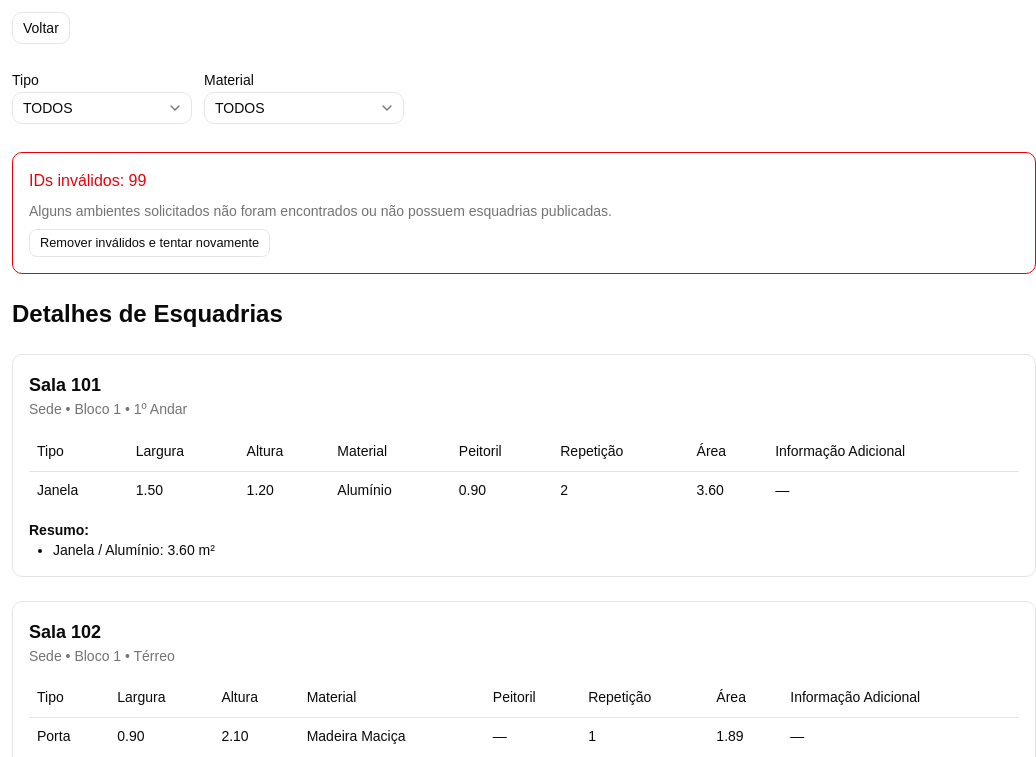
Test: EsquadriasPage › remove IDs inválidos ao clicar no botão e re-busca apenas válidos
Expected: the text "IDs inválidos: 99" is shown, x1=29 y1=172 x2=146 y2=189
Click the button "Remover inválidos e tentar novamente": click(150, 243) x1=29 y1=229 x2=270 y2=257
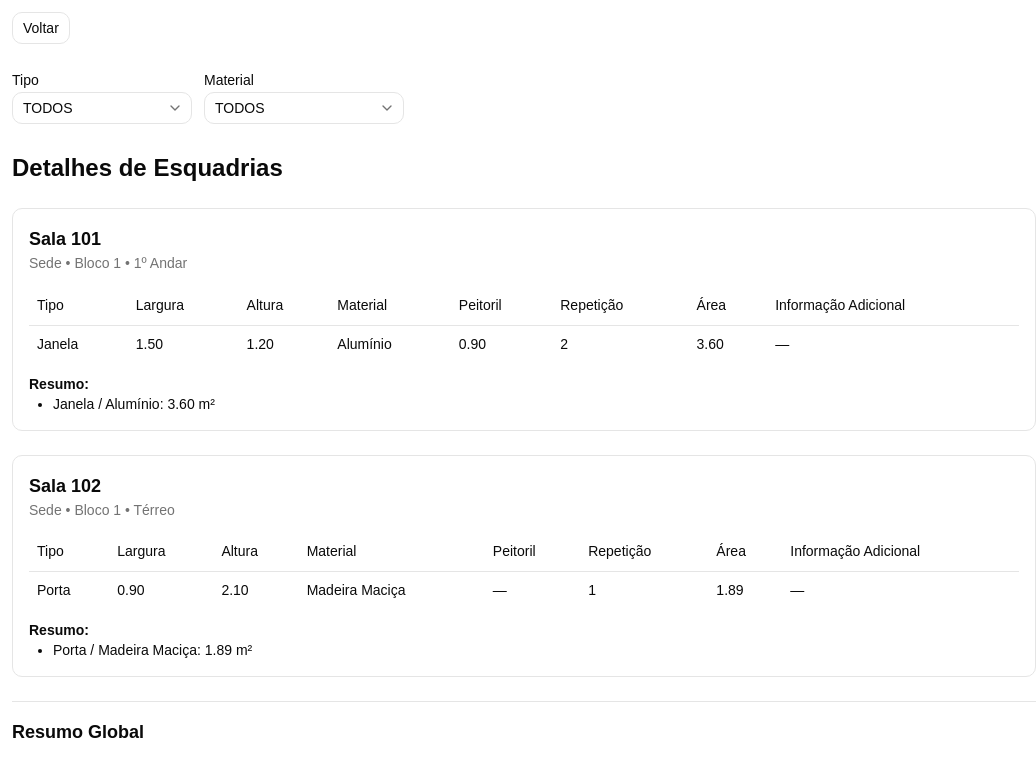
Result: the text "IDs inválidos" is gone
